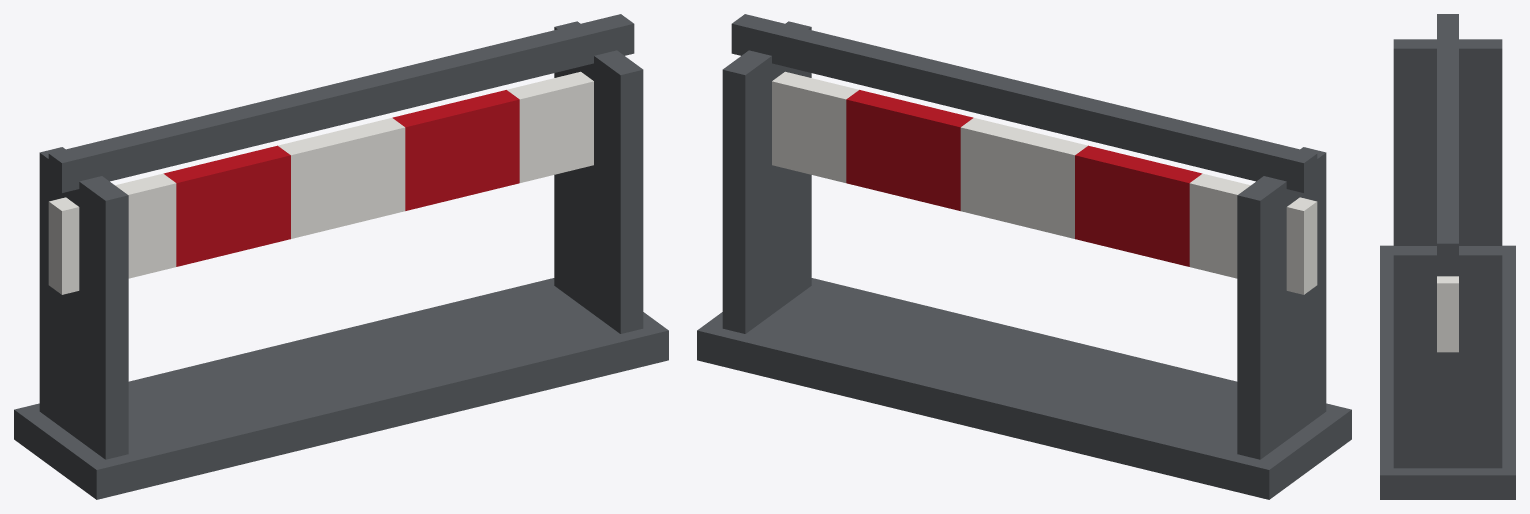
The model's file is barrier.glb.
The picture shows the model from 3 angles, left to right: view 1: azimuth 30°, elevation 25°; view 2: azimuth 150°, elevation 25°; view 3: azimuth 270°, elevation 25°; orthographic projection. The views are drawn at different scales.
Parts seen in each view (by area): view 1: barrier; view 2: barrier; view 3: barrier.
Part boxes in pixels (left/top/right/bottom): barrier: left=14, top=14, right=668, bottom=499; barrier: left=697, top=14, right=1351, bottom=499; barrier: left=1380, top=14, right=1515, bottom=499.
Size of the model in its own units: 2 by 1.04 by 0.5.
